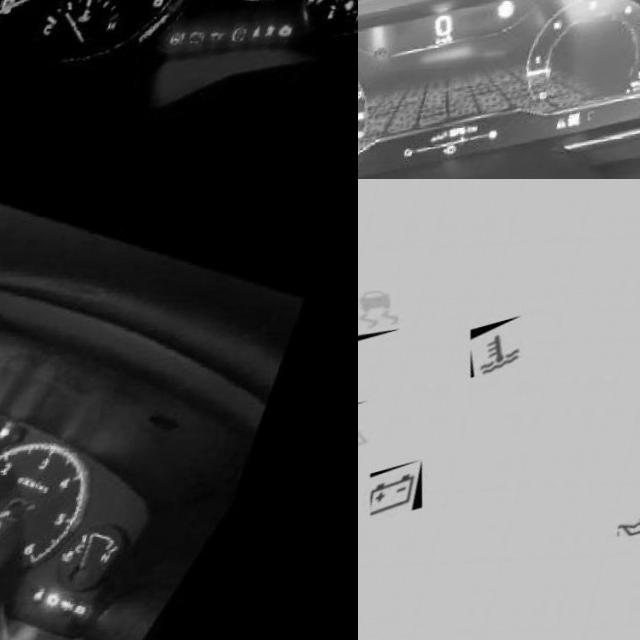High Engine Coolant Temperature: (88, 549, 109, 565)
Low fuel level: (463, 138, 477, 151)
Seat Belt: (66, 589, 82, 602)
